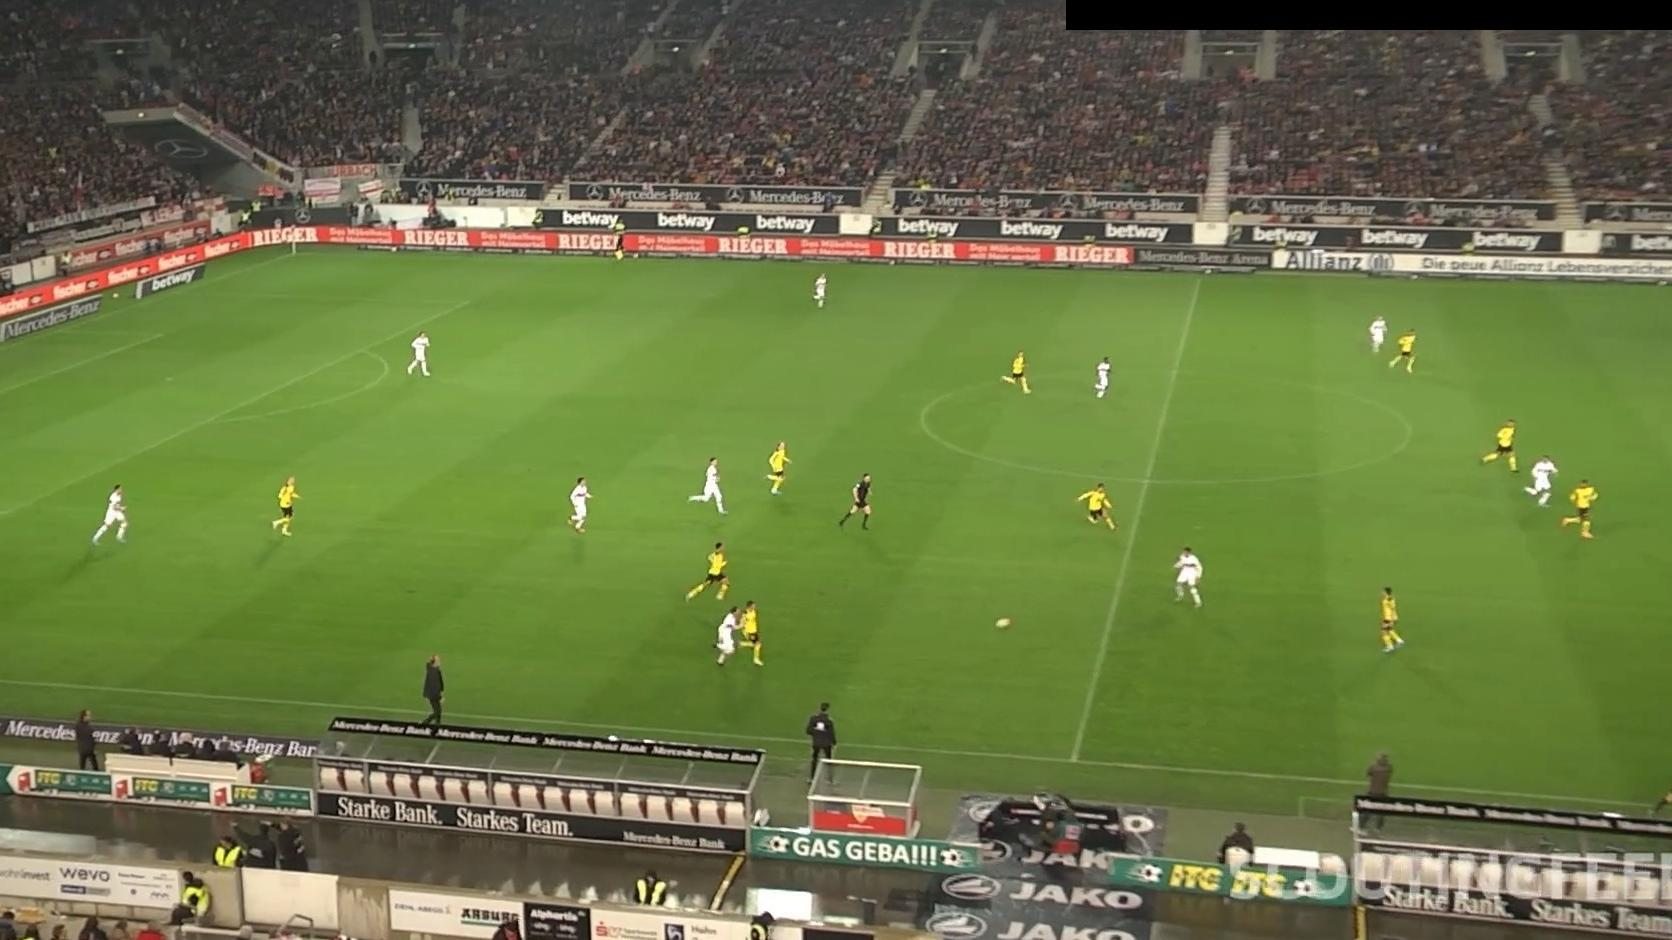ball: (994, 615, 1011, 631)
